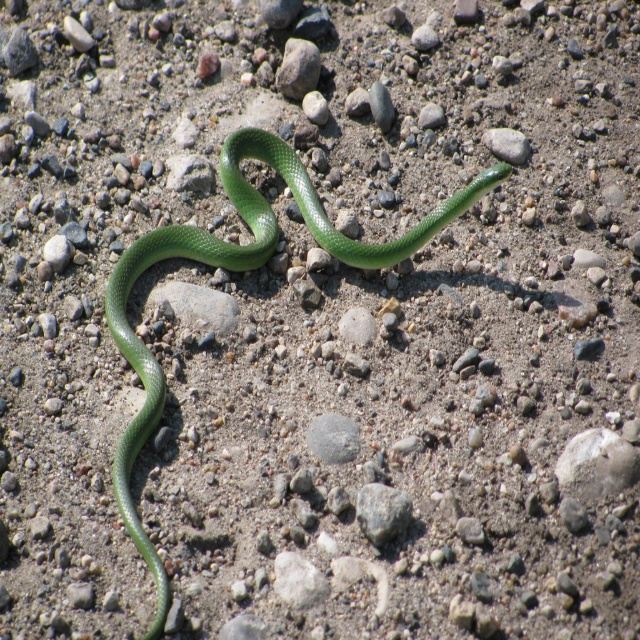Snake: (111, 127, 523, 639)
